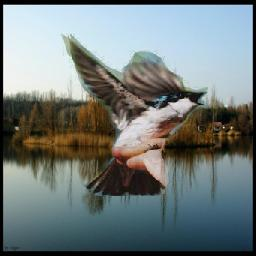Swallow: (60, 34, 208, 197)
